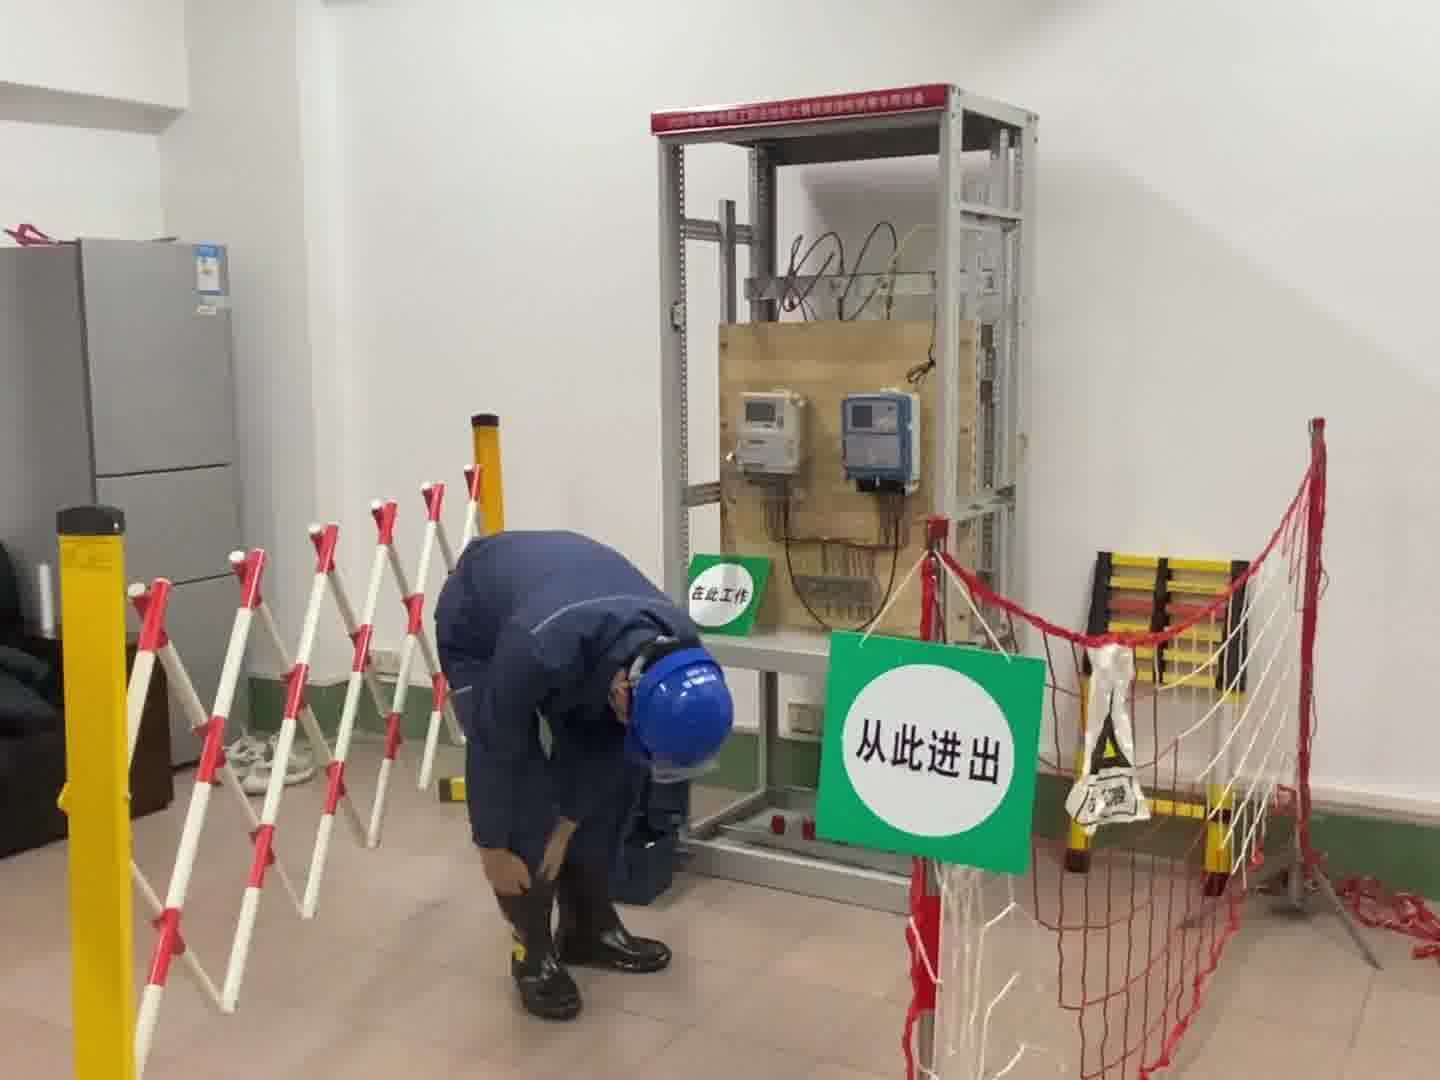downsuit: (452, 698, 632, 850)
halt: (624, 646, 736, 778)
hand: (477, 848, 533, 898), (536, 820, 578, 881)
intosign: (807, 624, 1058, 882)
person: (428, 522, 737, 1029)
shoe: (499, 874, 671, 1024)
upsuit: (431, 529, 719, 690)
worksign: (684, 550, 774, 639)
